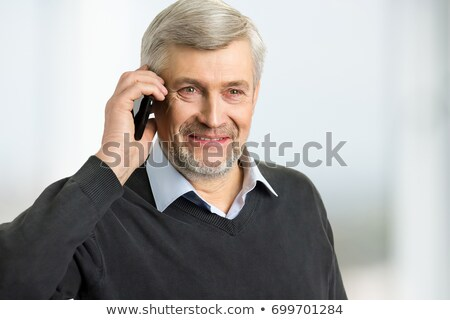phone: (118, 69, 160, 149)
talk: (99, 64, 260, 188)
